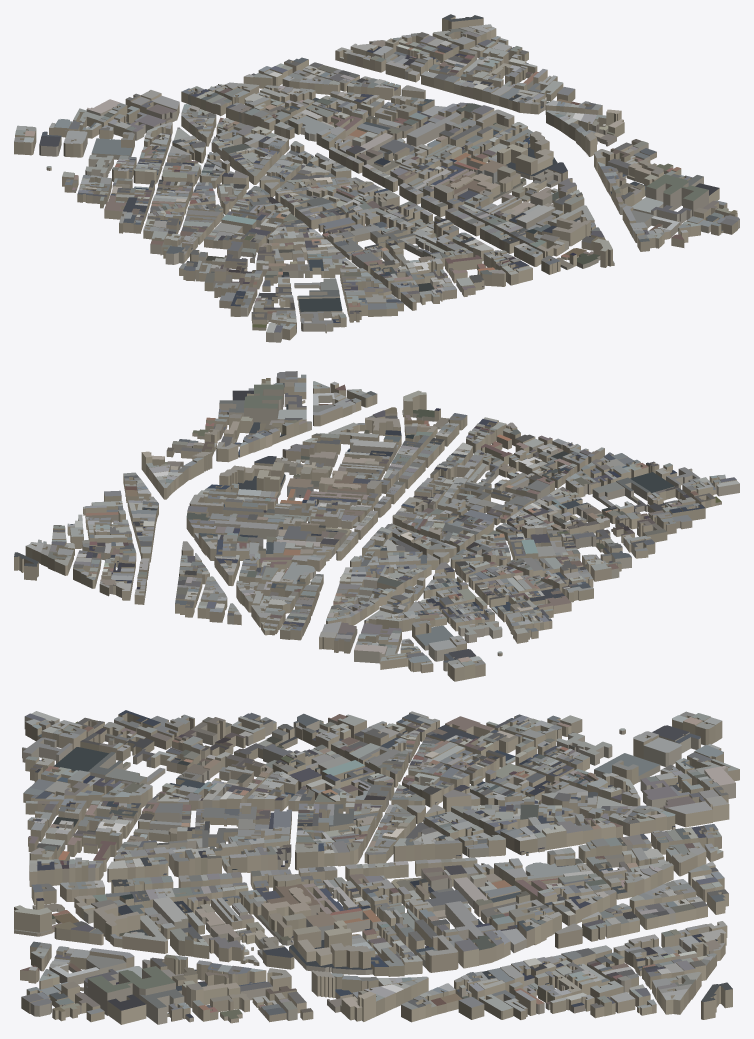
3 renders of one model, top to bottom at view 1: azimuth 30°, elevation 25°; view 2: azimuth 150°, elevation 25°; view 3: azimuth 270°, elevation 25°, orthographic. The views are drawn at different scales.
Parts seen in each view (by area): view 1: tuile; view 2: tuile; view 3: tuile.
Part boxes in pixels (bbox=[...]): tuile: bbox=[14, 14, 739, 342]; tuile: bbox=[14, 371, 739, 681]; tuile: bbox=[14, 710, 739, 1024].
Size of the model in its own units: 1034 by 44.61 by 1053.
